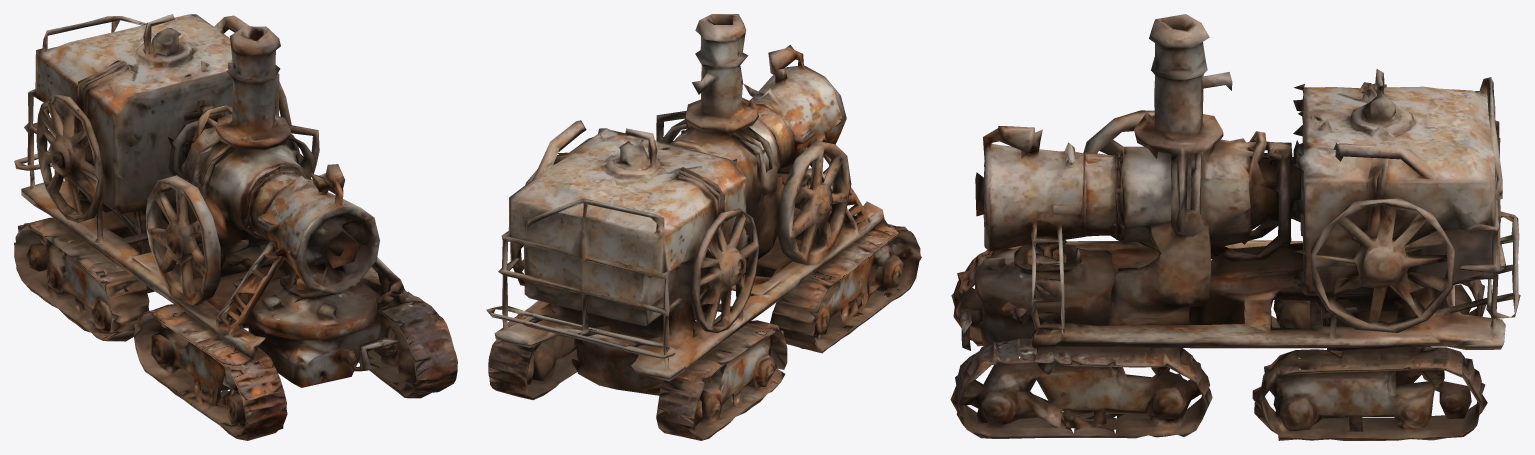
File: industrial_machine_c.glb
3 renders of one model, left to right at view 1: azimuth 30°, elevation 25°; view 2: azimuth 150°, elevation 25°; view 3: azimuth 270°, elevation 25°, orthographic. The views are drawn at different scales.
Visible parts, largest first — view 1: industrial_machine_c / mesh; view 2: industrial_machine_c / mesh; view 3: industrial_machine_c / mesh.
Part boxes in pixels (<box>): industrial_machine_c / mesh: <box>14,14,457,440</box>; industrial_machine_c / mesh: <box>486,14,921,440</box>; industrial_machine_c / mesh: <box>950,14,1520,440</box>.
Bounding box in the file's own units: 1.18 × 1.66 × 2.35.
Materials: 1 (1 with a texture image).
